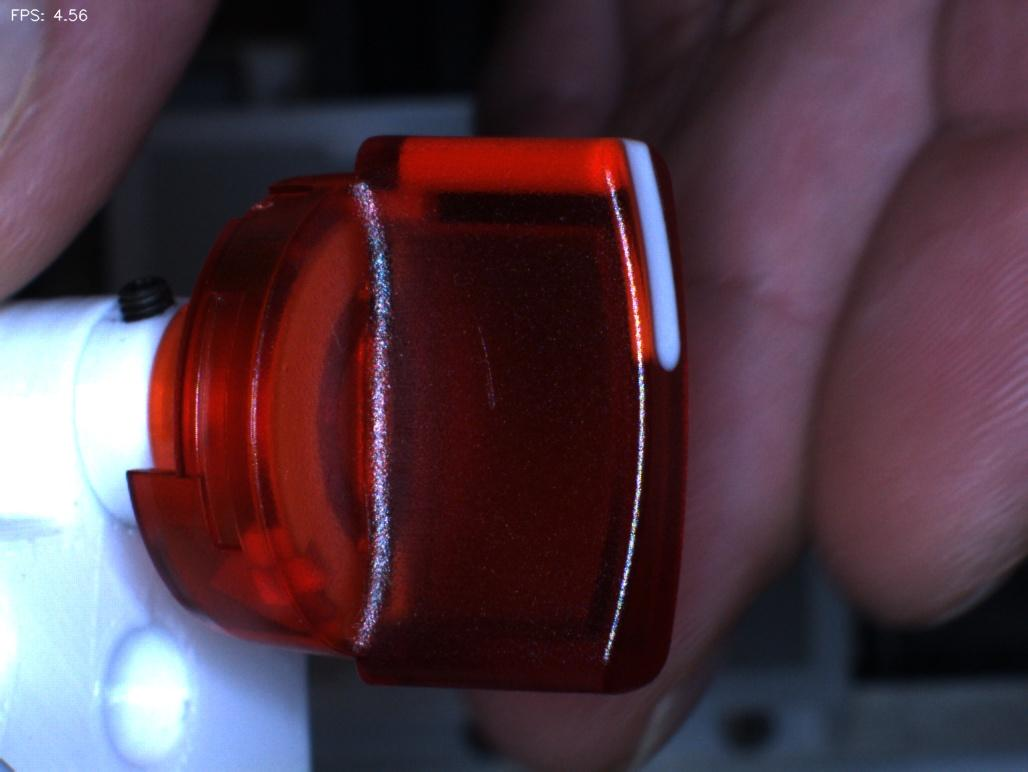Givrage: (438, 281, 524, 430)
